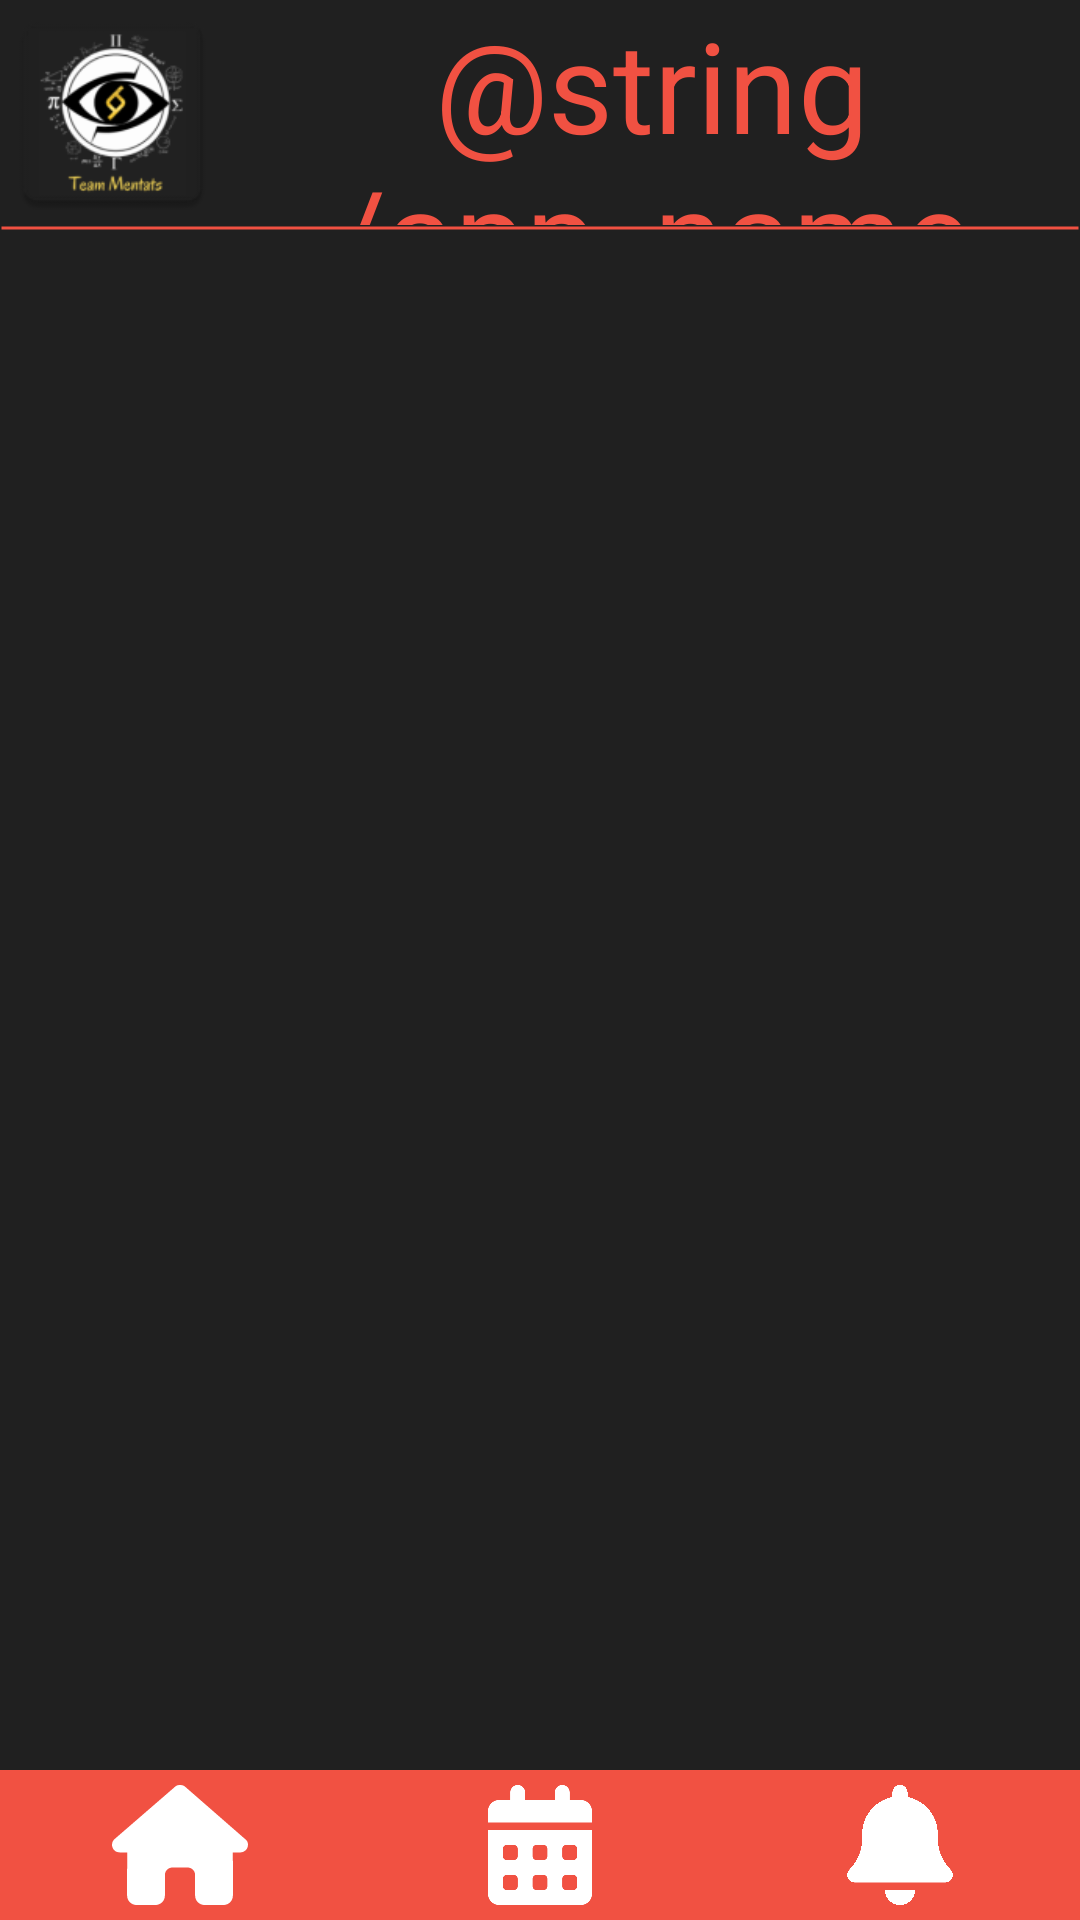

Icons on this 1080px×1920px Android screen, each with the point to tap as point (x, y):
calendar: point (540, 1845)
home: point (180, 1845)
reminder bell: point (900, 1845)
